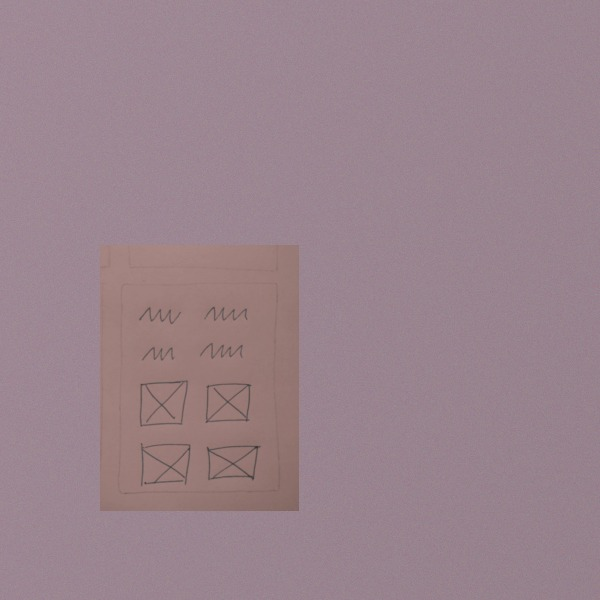image: (135, 440, 197, 490), (134, 379, 192, 429), (200, 382, 256, 426), (203, 443, 263, 484)
text: (200, 301, 255, 326), (135, 302, 185, 329), (198, 340, 247, 359), (140, 343, 178, 364)
